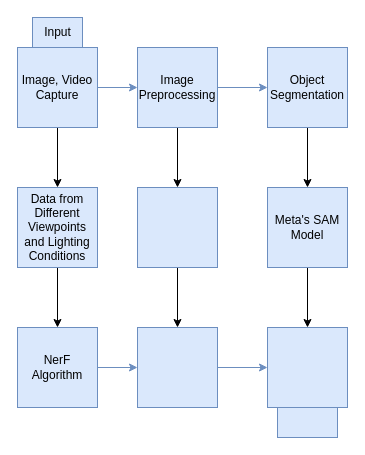
Some shapes in this 365 by 455 pixel diagram are drawn without their labels. The shapes that lost their labels are listed below. From the top down, each one's centre as x and y in pixels, then its label:
At pixel 177 227: "Distortation Correction Alignment".
At pixel 177 367: "Background Replacement".
At pixel 307 367: "3D model from Segmented Objects".
At pixel 307 422: "Output".
